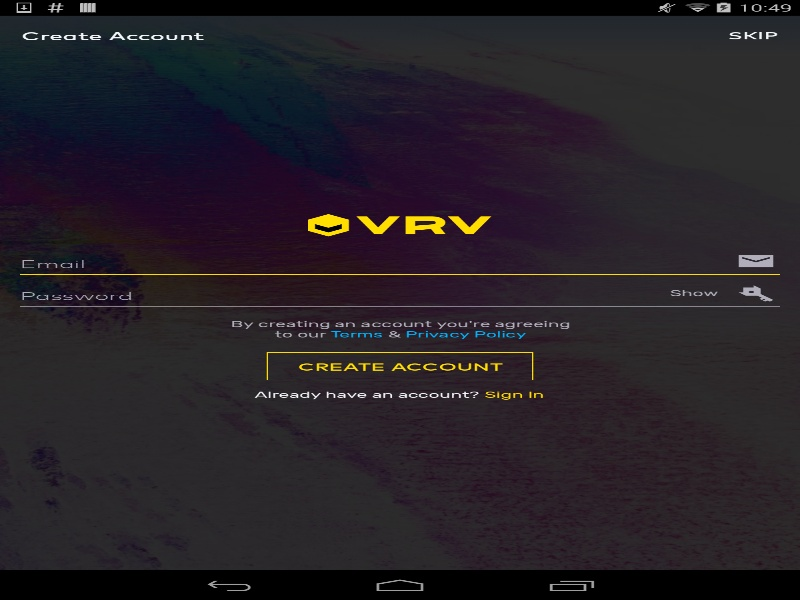Button: (266, 352, 533, 380)
Input: (20, 252, 732, 270), (20, 284, 656, 302)
